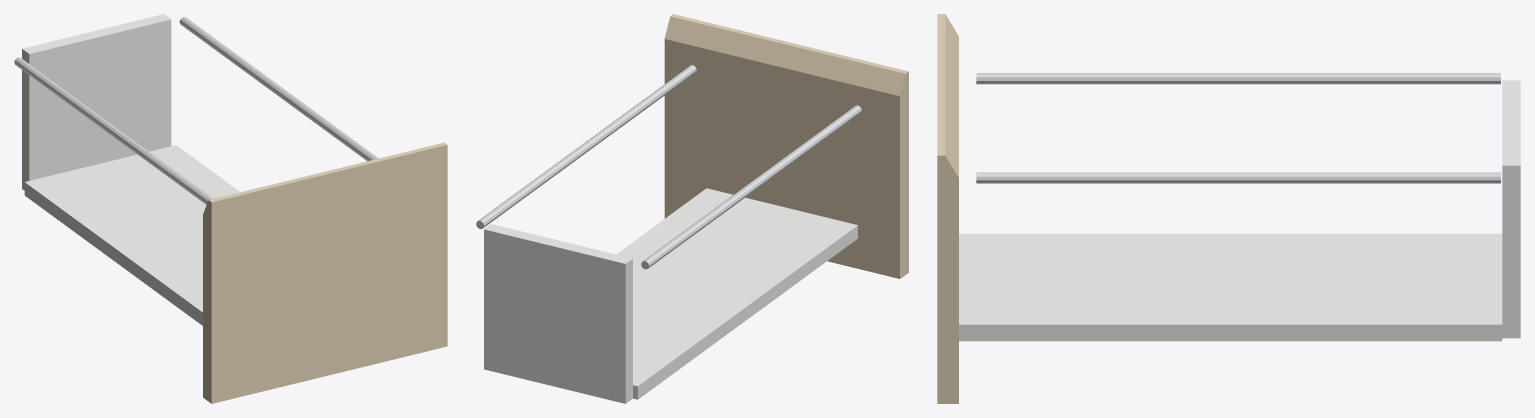
The model's file is skuff_N4_2.glb.
3 views of the same model, side by side, from view 1: azimuth 30°, elevation 25°; view 2: azimuth 150°, elevation 25°; view 3: azimuth 270°, elevation 25° (orthographic). The views are drawn at different scales.
Bounding box in the file's own units: 294 × 240 × 511.
